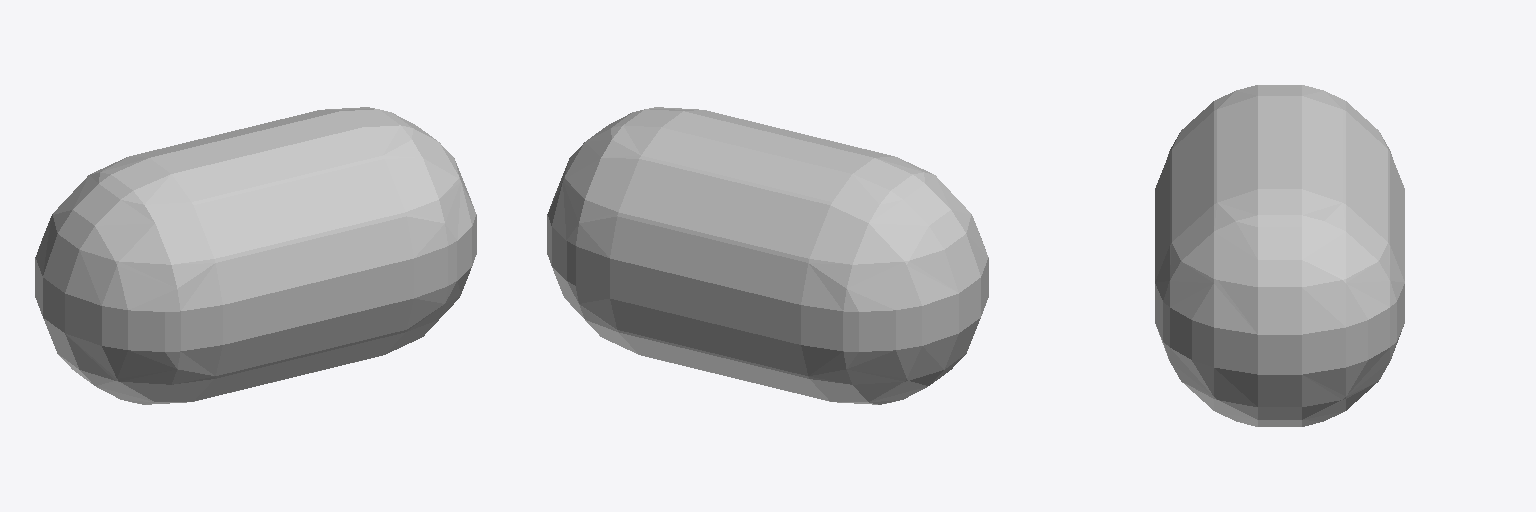
Rendered from TicTac.obj.
3 views of the same model, side by side, from view 1: azimuth 30°, elevation 25°; view 2: azimuth 150°, elevation 25°; view 3: azimuth 270°, elevation 25° (orthographic).
Parts seen in each view (by area): view 1: Mball; view 2: Mball; view 3: Mball.
Part boxes in pixels (x1,y1,x2,y2): Mball: (35,107,476,404); Mball: (547,107,988,404); Mball: (1155,85,1404,426).
Size of the model in its own units: 4.23 by 2.27 by 2.27.